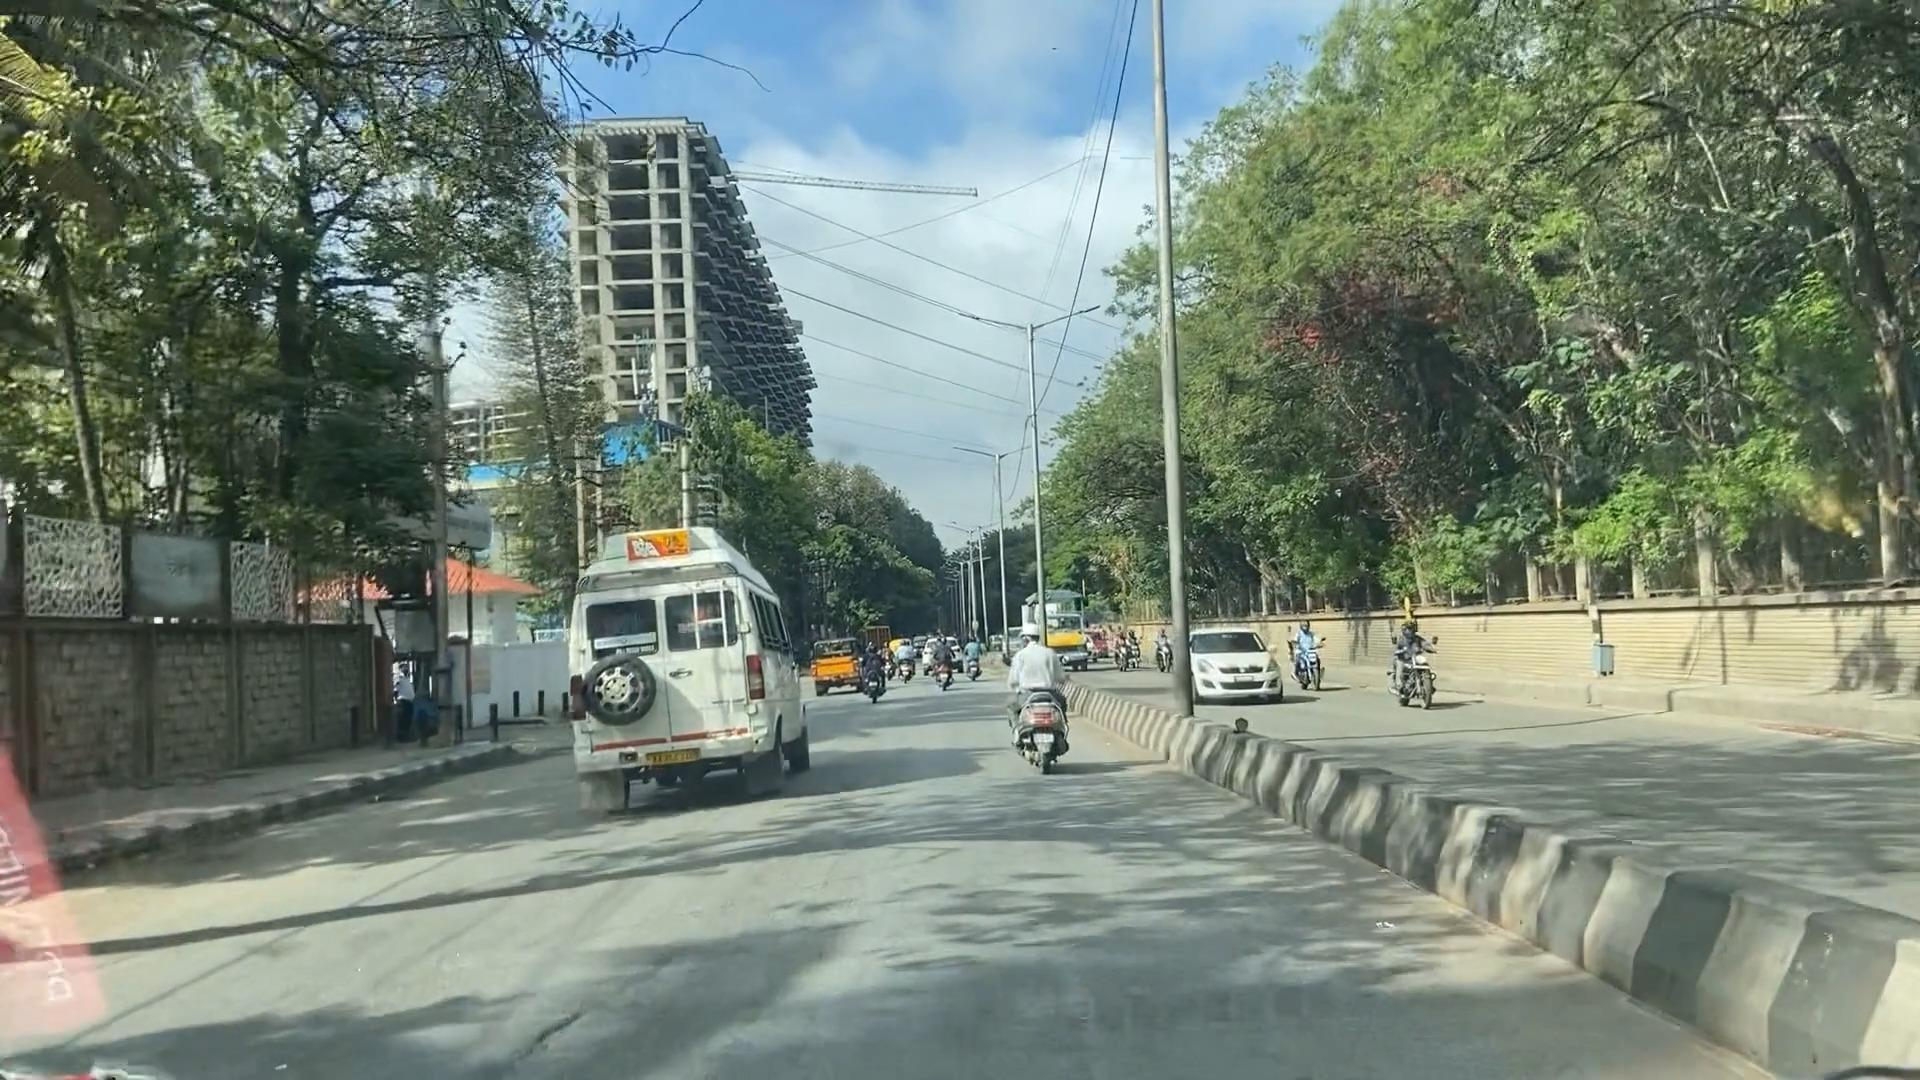HMV: (516, 521, 802, 806)
LMV: (996, 636, 1075, 773)
